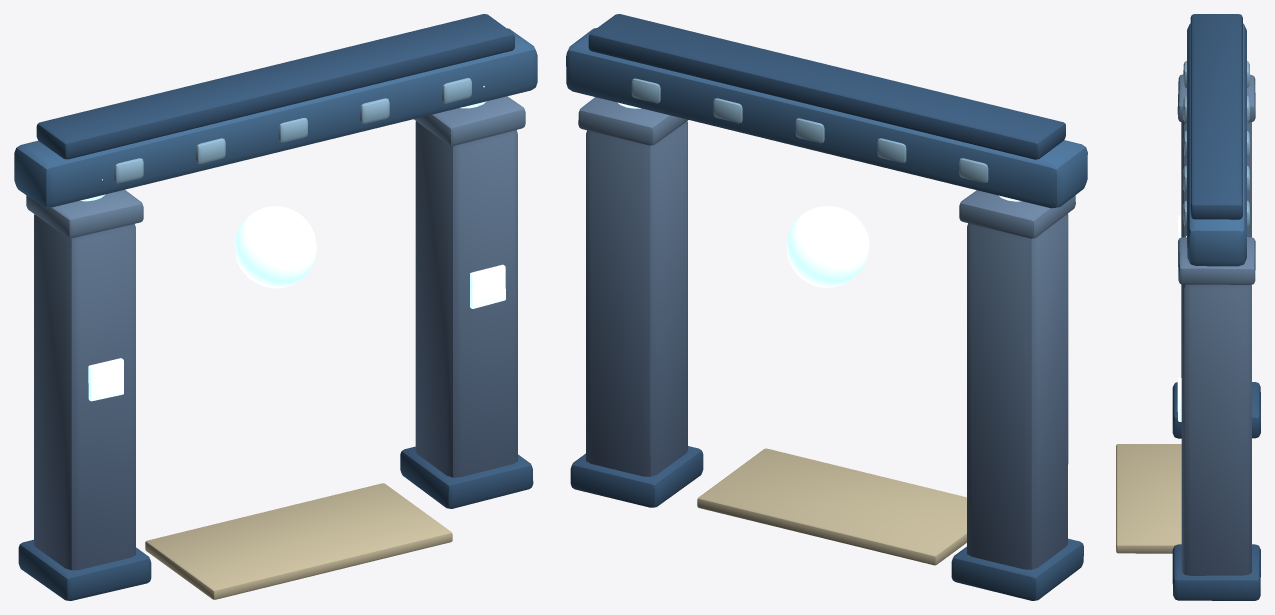
3 views of the same model, side by side, from view 1: azimuth 30°, elevation 25°; view 2: azimuth 150°, elevation 25°; view 3: azimuth 270°, elevation 25° (orthographic). The views are drawn at different scales.
Parts seen in each view (by area): view 1: gate_72fdbae4; view 2: gate_72fdbae4; view 3: gate_72fdbae4.
Boxes of the visible parts, bbox=[...] form: gate_72fdbae4: bbox=[14, 14, 537, 600]; gate_72fdbae4: bbox=[566, 14, 1087, 600]; gate_72fdbae4: bbox=[1116, 14, 1260, 600].
Bounding box in the file's own units: 4.97 × 4.32 × 1.44.
